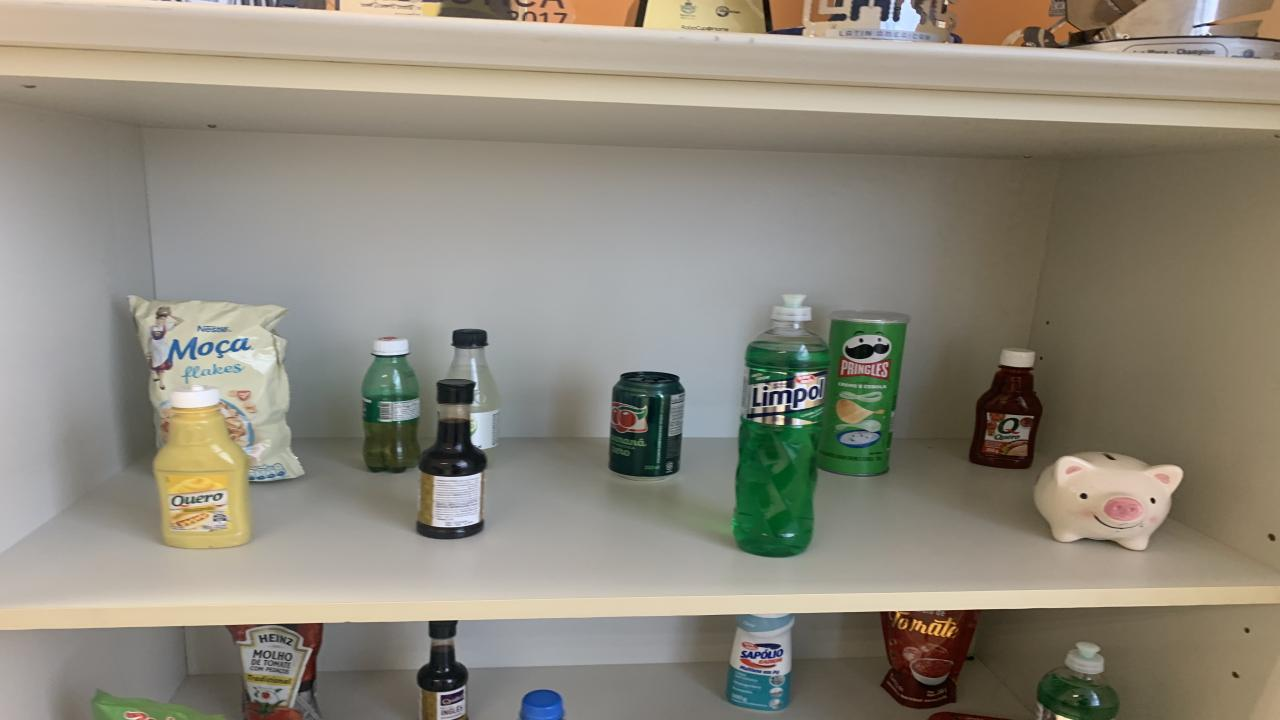Cleaner-Cleanup_Items: (728, 615, 792, 711)
Detergent-Cleanup_Items: (732, 296, 830, 557), (1038, 641, 1120, 720)
English_Sauce-Pantry_Items: (418, 379, 488, 538), (418, 621, 468, 720)
Flakes-Snacks: (130, 296, 302, 482)
Guarana-Drinks: (362, 338, 420, 472)
Guarana_Can-Drinks: (608, 371, 685, 478)
Ketchup-Pantry_Items: (970, 349, 1042, 469)
Mustard-Pantry_Items: (152, 384, 252, 549)
Pig_Safe-Miscellaneous: (1035, 452, 1182, 549)
Pringles-Snacks: (818, 311, 910, 476)
Soda-Drinks: (448, 330, 500, 450)
Tomato_Sauce-Pantry_Items: (880, 609, 980, 709), (228, 622, 322, 720), (92, 690, 225, 720)
Water_Bottle-Drinks: (520, 690, 565, 720)
